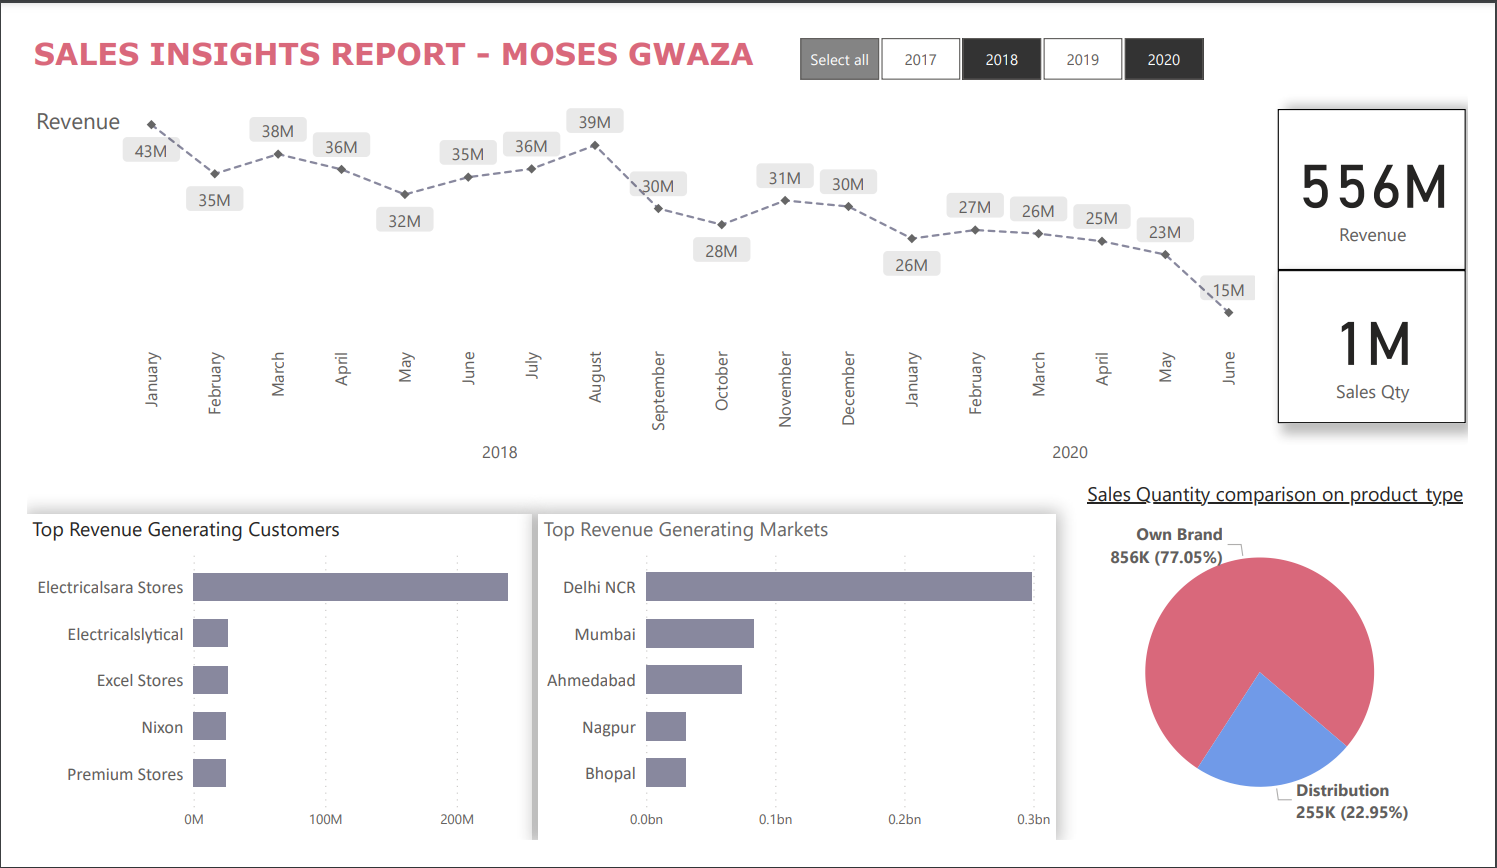

What the dashboard file says about the page in this screenshot:
{"tool":"powerbi","page":{"name":"Page 1","canvas":[2000,1000],"ordinal":0},"visuals":[{"type":"card","fields":{"Values":["Base measures.Revenue"]},"box":[485.2,0,311.1,137],"z":0},{"type":"card","fields":{"Values":["Base measures.Total Sales Quantity"]},"box":[1096.3,0,403.7,138.9],"z":1},{"type":"clusteredBarChart","title":"Top 5 customers with highest Revenue","fields":{"Category":["sales customers.custmer_name"],"Y":["Base measures.Revenue"]},"box":[0,650,968.5,350],"z":2},{"type":"clusteredBarChart","title":"Top 5 customer with highest Sales Quantity","fields":{"Category":["sales customers.custmer_name"],"Y":["Base measures.Total Sales Quantity"]},"box":[1000,650,1000,350],"z":3},{"type":"lineChart","fields":{"Category":["sales date.date.Variation.Date Hierarchy.Year","sales date.date.Variation.Date Hierarchy.Day"],"Y":["Base measures.Revenue"]},"box":[0,0,485.2,327.8],"z":4},{"type":"clusteredBarChart","title":"Top 5 markets with highest Sales Quantity","fields":{"Category":["sales markets.markets_name"],"Y":["Base measures.Total Sales Quantity"]},"box":[1000,327.8,1000,322.2],"z":5},{"type":"clusteredBarChart","title":"Top 5 markets with highest Revenue","fields":{"Y":["Base measures.Revenue"],"Category":["sales markets.markets_name"]},"box":[0,327.8,942.6,322.2],"z":6},{"type":"lineChart","fields":{"Category":["sales date.date.Variation.Date Hierarchy.Year","sales date.date.Variation.Date Hierarchy.Day"],"Y":["Base measures.Total Sales Quantity"]},"box":[1514.7,0,485.3,327.9],"z":7}]}

Visuals, with their boxes on the page's 2000x1000 design canvas (x1, y1, x2, y2). These are canvas units, not pixel positions in the 1497x868 screenshot, which may show the page scaled, cropped or inside an application window:
card - Base measures.Revenue: <region>485, 0, 796, 137</region>
card - Base measures.Total Sales Quantity: <region>1096, 0, 1500, 139</region>
"Top 5 customers with highest Revenue" clusteredBarChart: <region>0, 650, 968, 1000</region>
"Top 5 customer with highest Sales Quantity" clusteredBarChart: <region>1000, 650, 2000, 1000</region>
lineChart - sales date.date.Variation.Date Hierarchy.Year x sales date.date.Variation.Date Hierarchy.Day: <region>0, 0, 485, 328</region>
"Top 5 markets with highest Sales Quantity" clusteredBarChart: <region>1000, 328, 2000, 650</region>
"Top 5 markets with highest Revenue" clusteredBarChart: <region>0, 328, 943, 650</region>
lineChart - sales date.date.Variation.Date Hierarchy.Year x sales date.date.Variation.Date Hierarchy.Day: <region>1515, 0, 2000, 328</region>
